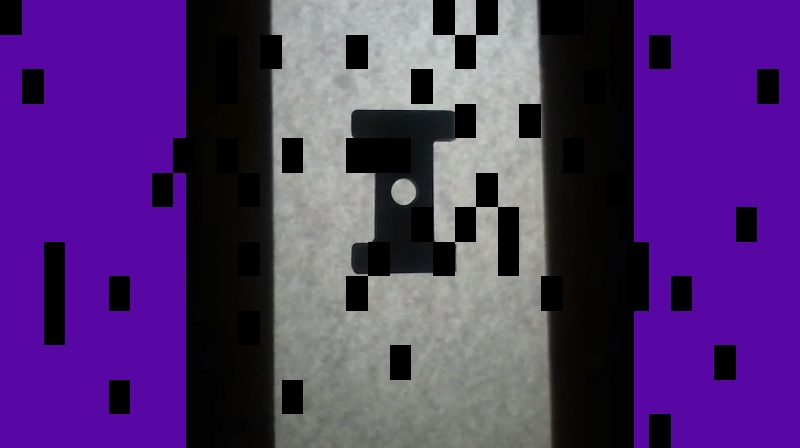O002: (347, 106, 458, 277)
